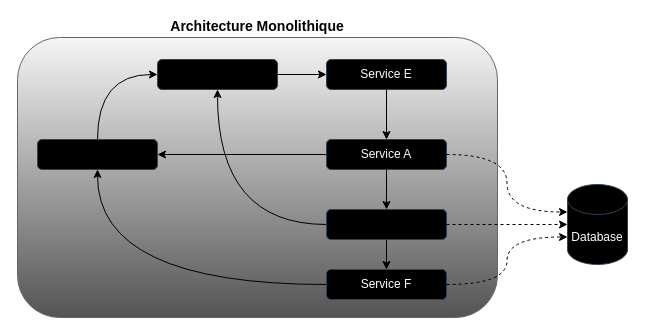
Some shapes in this 645 by 335 pixel diagram are drawn without their labels. Here are the shapes that lost their labels. From the top down, the centre of each, then its label:
point 217,74: Service D
point 97,154: Service B
point 386,224: Service C
